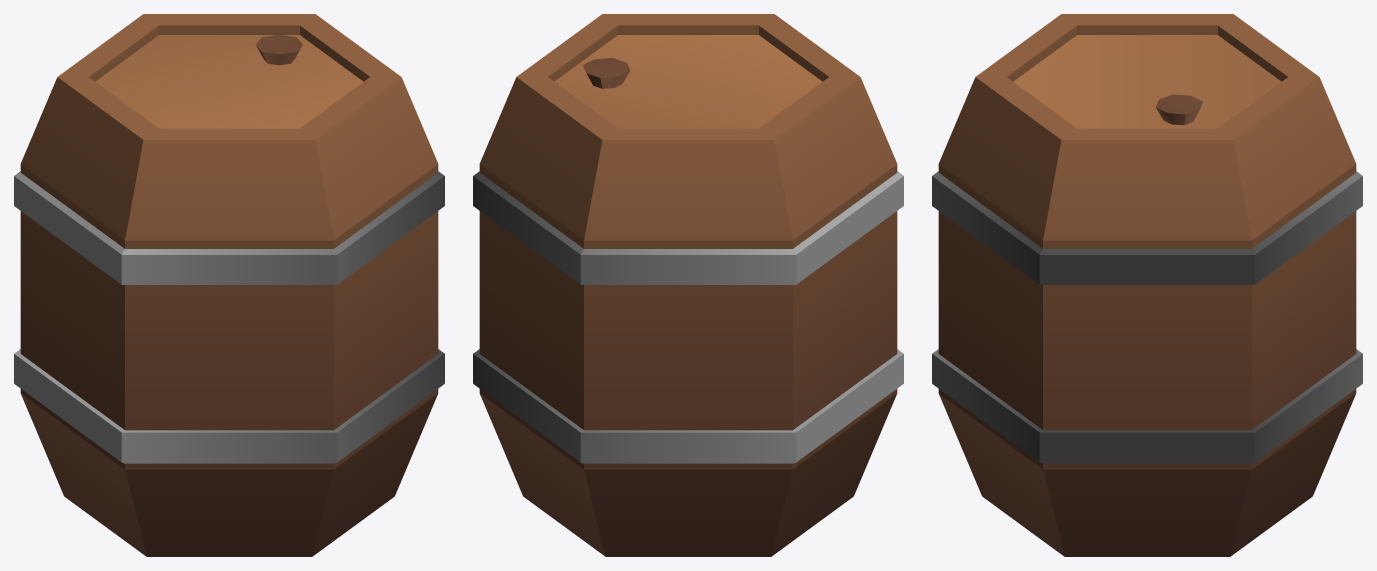
File: barrel_01.fbx
The picture shows the model from 3 angles, left to right: view 1: azimuth 30°, elevation 25°; view 2: azimuth 150°, elevation 25°; view 3: azimuth 270°, elevation 25°; orthographic projection.
Parts seen in each view (by area): view 1: barrel_01; view 2: barrel_01; view 3: barrel_01.
Boxes of the visible parts, box(x1,y1,x2,y2) form: barrel_01: box(14, 14, 444, 556); barrel_01: box(473, 14, 903, 556); barrel_01: box(932, 14, 1362, 556).
Bounding box in the file's own units: 1.98 × 2.49 × 2.29.
